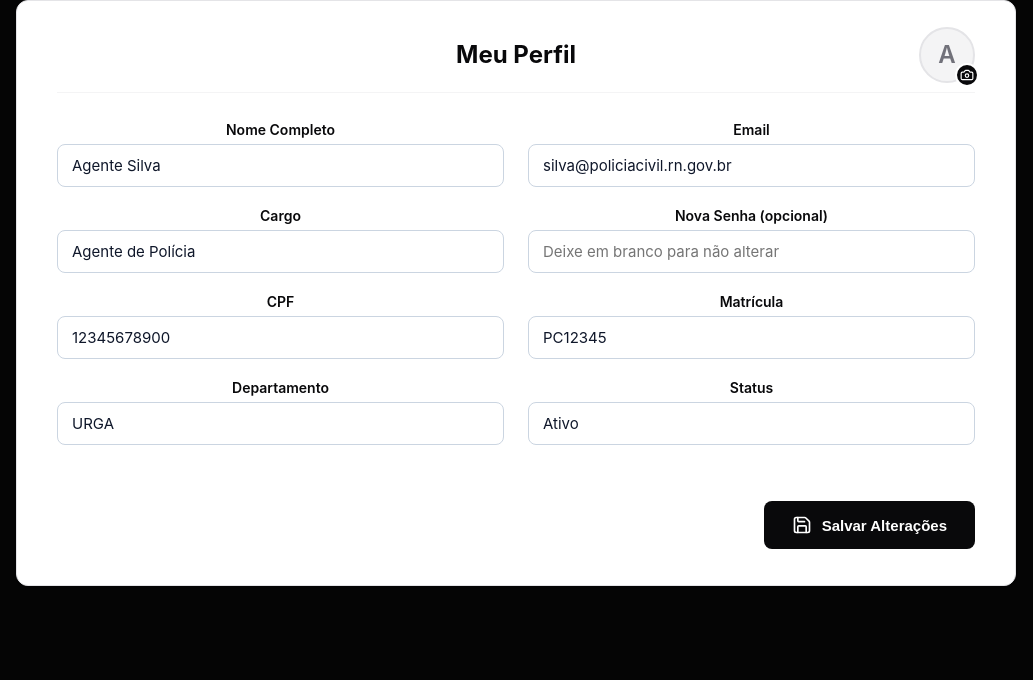
Test case: PerfilContainer › deve permitir editar e salvar as alterações do perfil
Replace the text in the field showing "Agente de Polícia" with "Agente Especial" at (280, 252), box [57,230,504,273]
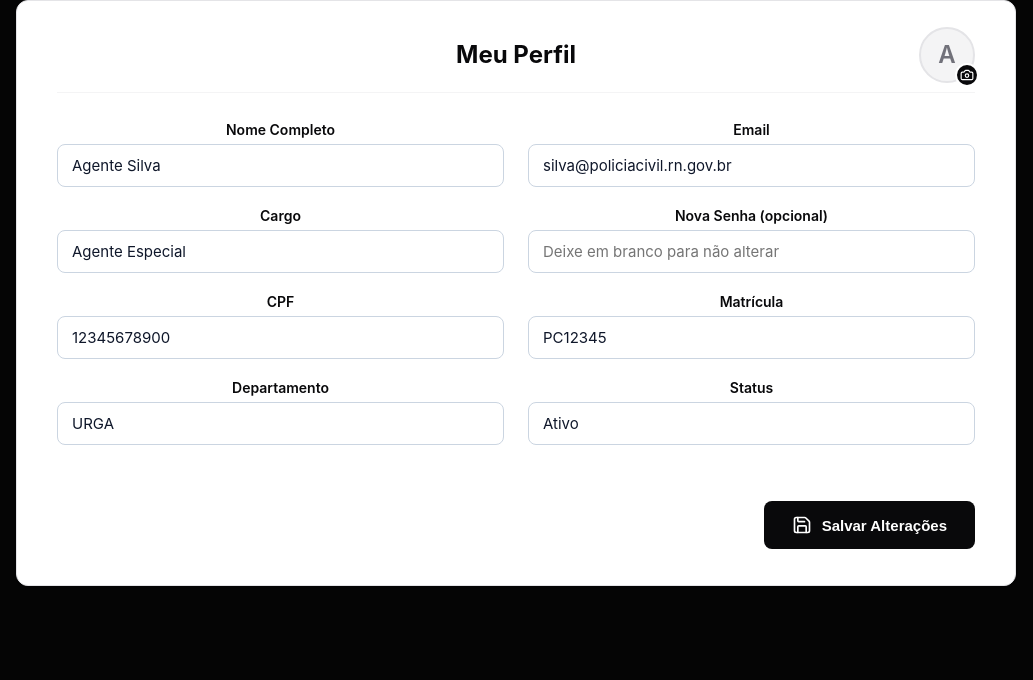
Click the button "Salvar Alterações" at (869, 525), box [764,501,975,549]
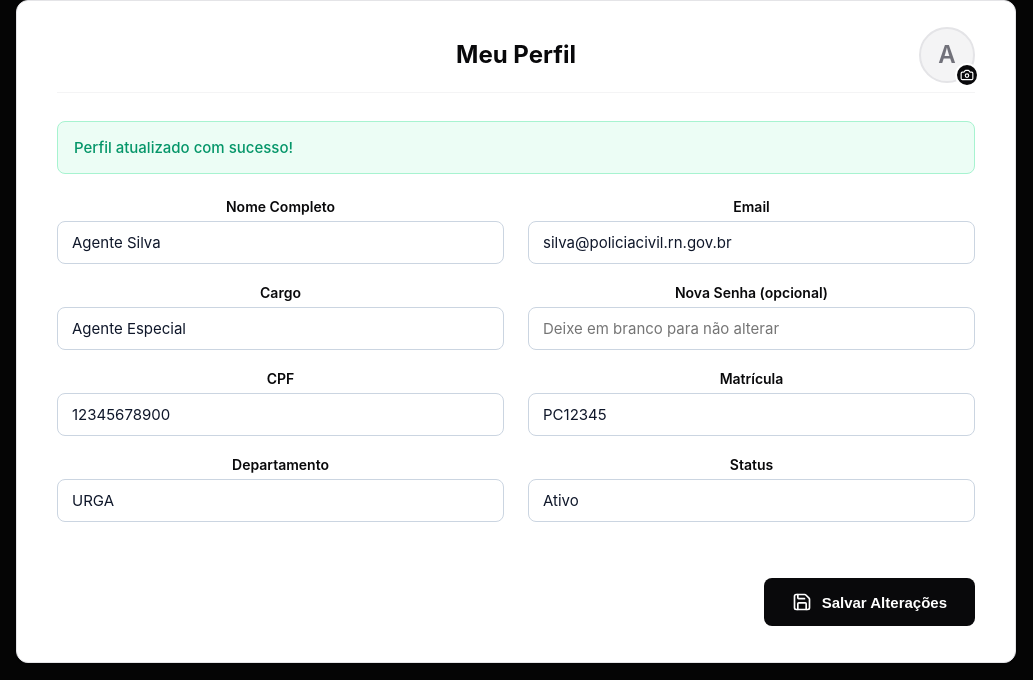
Result: the text "Perfil atualizado com sucesso!" is shown at [57,121,975,174]
